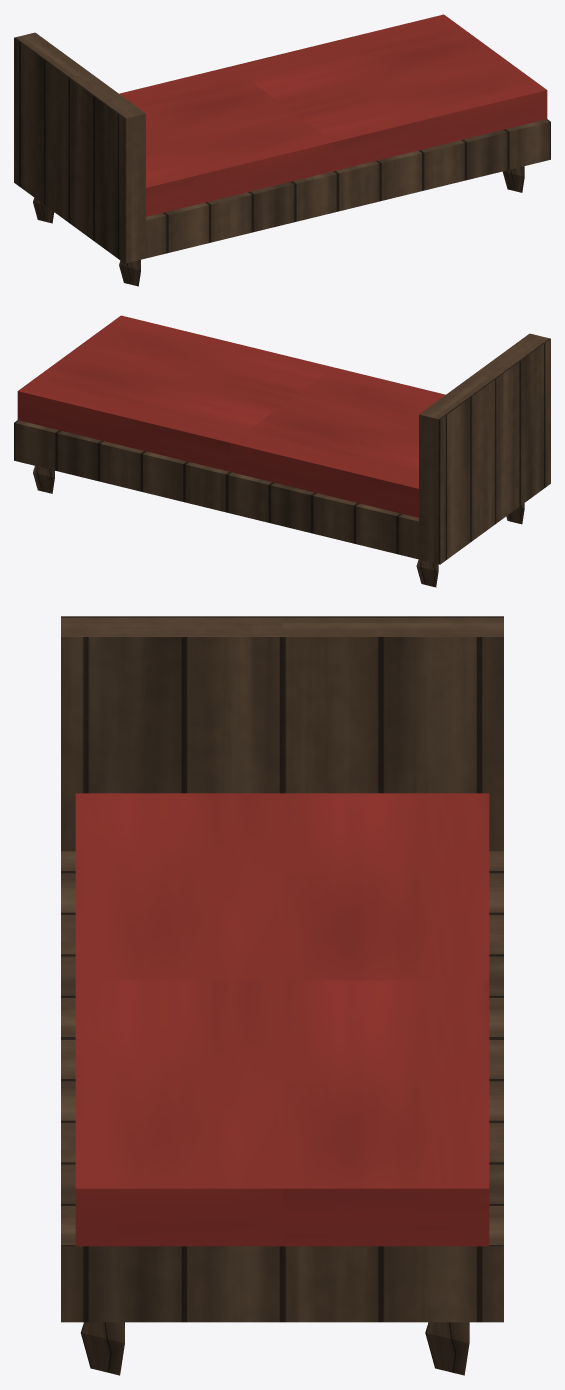
The model's file is Daybed_1_LOD2.gltf.
3 renders of one model, top to bottom at view 1: azimuth 30°, elevation 25°; view 2: azimuth 150°, elevation 25°; view 3: azimuth 270°, elevation 25°, orthographic. The views are drawn at different scales.
Visible parts, largest first — view 1: Daybed_1_LOD2; view 2: Daybed_1_LOD2; view 3: Daybed_1_LOD2.
Boxes of the visible parts, left/top/right/bottom form: Daybed_1_LOD2: left=14, top=14, right=550, bottom=286; Daybed_1_LOD2: left=14, top=315, right=550, bottom=587; Daybed_1_LOD2: left=61, top=616, right=503, bottom=1375.
Bounding box in the file's own units: 2 × 0.8 × 0.9.
Materials: 2 (2 with a texture image).
